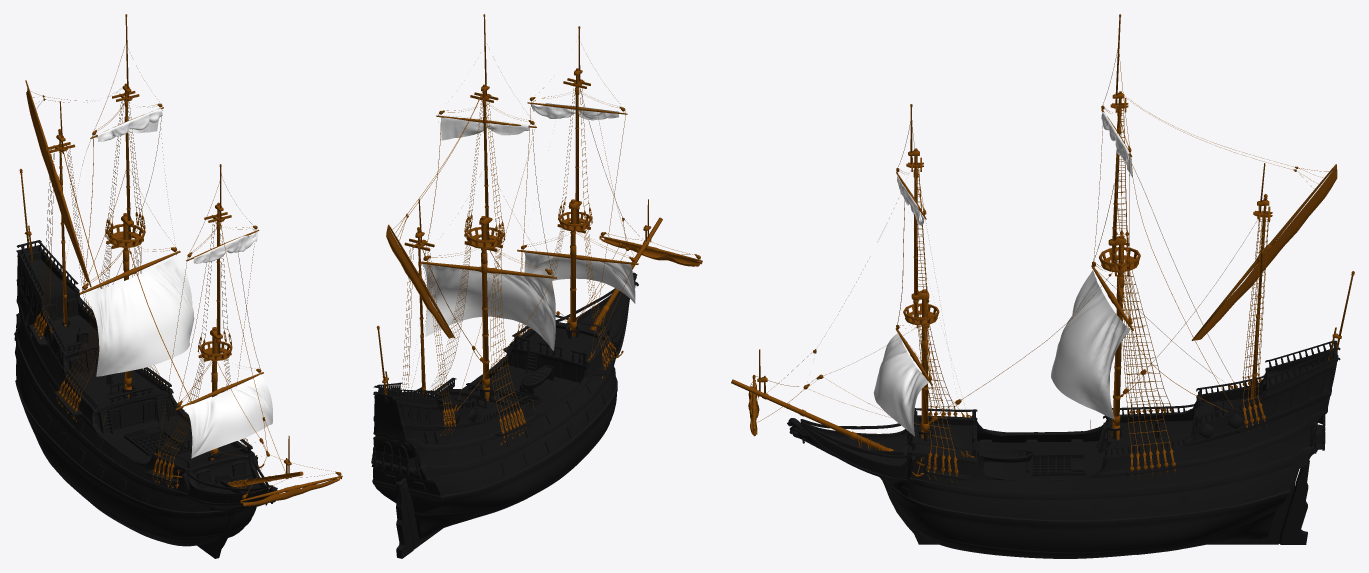
3 views of the same model, side by side, from view 1: azimuth 30°, elevation 25°; view 2: azimuth 150°, elevation 25°; view 3: azimuth 270°, elevation 25° (orthographic). The views are drawn at different scales.
Visible parts, largest first — view 1: dutch_ship_large_02_hull, dutch_ship_large_02_rigging, dutch_ship_large_02_sails; view 2: dutch_ship_large_02_hull, dutch_ship_large_02_rigging, dutch_ship_large_02_sails; view 3: dutch_ship_large_02_hull, dutch_ship_large_02_rigging, dutch_ship_large_02_sails.
Boxes of the visible parts, x1=… form: dutch_ship_large_02_hull: x1=14, y1=240, x2=277, y2=558; dutch_ship_large_02_rigging: x1=19, y1=14, x2=342, y2=506; dutch_ship_large_02_sails: x1=85, y1=108, x2=272, y2=458; dutch_ship_large_02_hull: x1=371, y1=272, x2=638, y2=558; dutch_ship_large_02_rigging: x1=376, y1=14, x2=702, y2=445; dutch_ship_large_02_sails: x1=422, y1=103, x2=635, y2=350; dutch_ship_large_02_hull: x1=787, y1=340, x2=1340, y2=558; dutch_ship_large_02_rigging: x1=731, y1=14, x2=1354, y2=483; dutch_ship_large_02_sails: x1=873, y1=112, x2=1132, y2=436.
Bounding box in the file's own units: 13.1 × 49.22 × 52.55.
